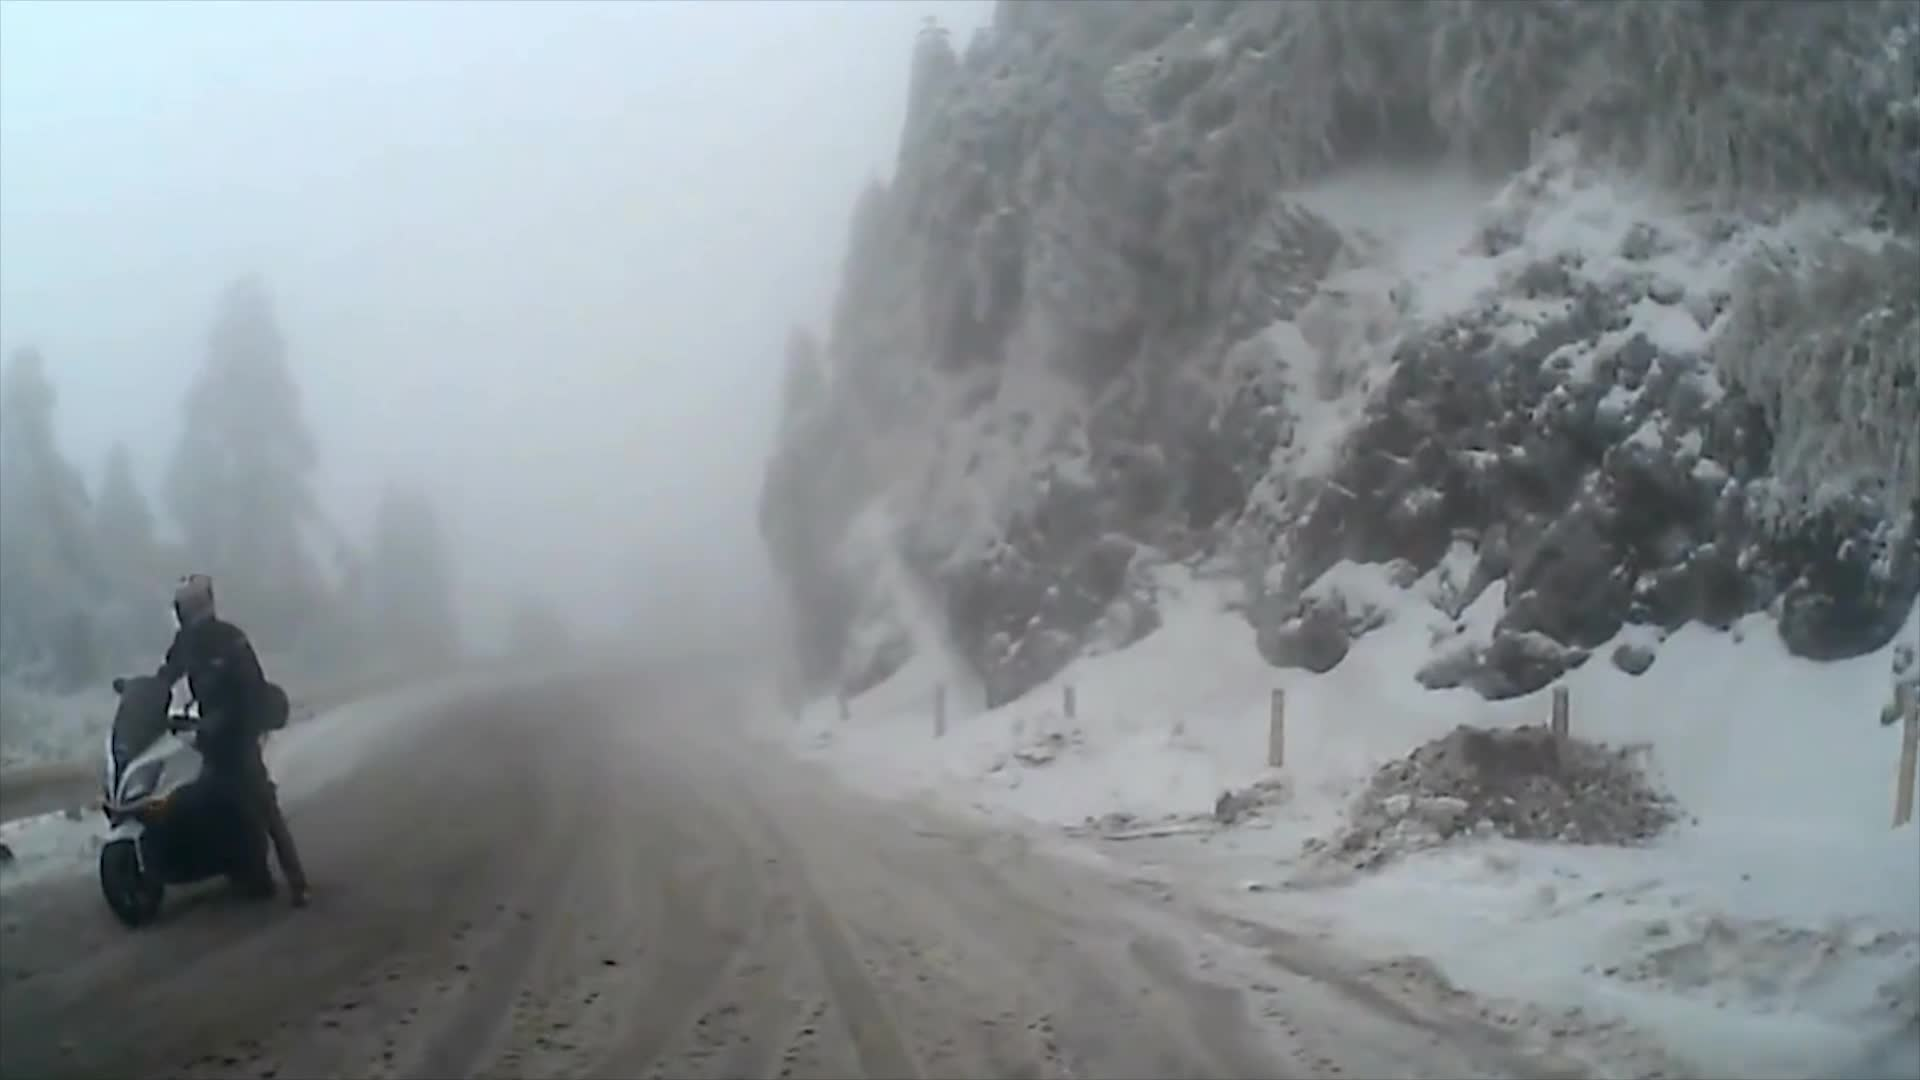pedestrian: (121, 568, 309, 917)
